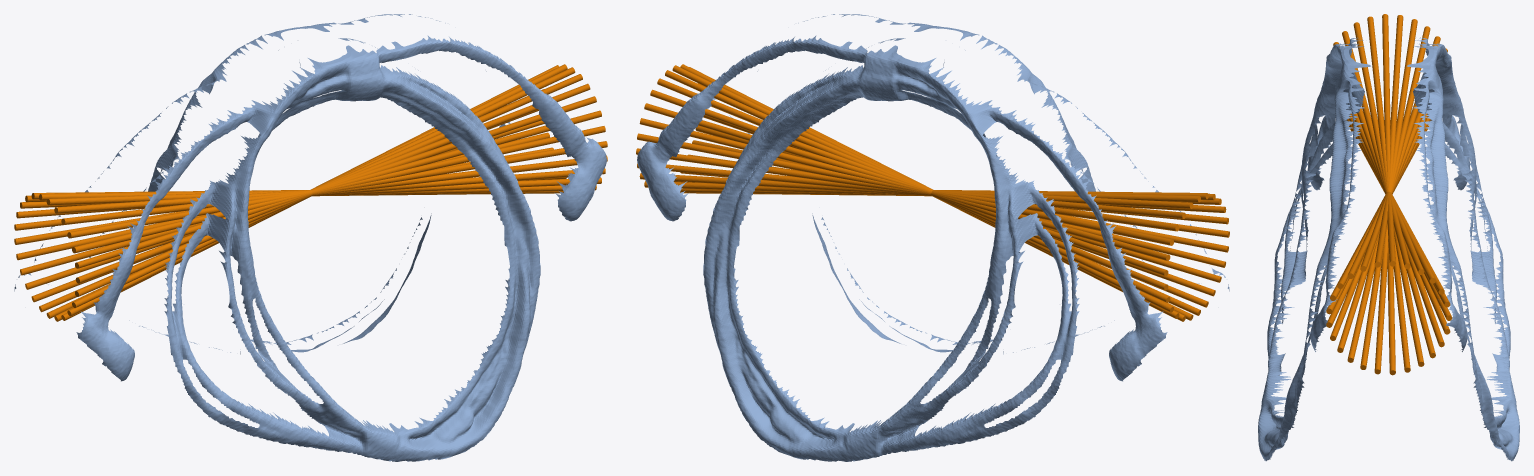
The model's file is A20021010_6145-37-530-7646_DigitalTwin.glb.
The picture shows the model from 3 angles, left to right: view 1: azimuth 30°, elevation 25°; view 2: azimuth 150°, elevation 25°; view 3: azimuth 270°, elevation 25°; orthographic projection. The views are drawn at different scales.
Visible parts, largest first — view 1: world; view 2: world; view 3: world.
Boxes of the visible parts, box(x1,y1,x2,y2) form: world: box(14, 14, 607, 461); world: box(636, 14, 1229, 461); world: box(1258, 14, 1519, 461).
Size of the model in its own units: 380 by 260 by 170.
